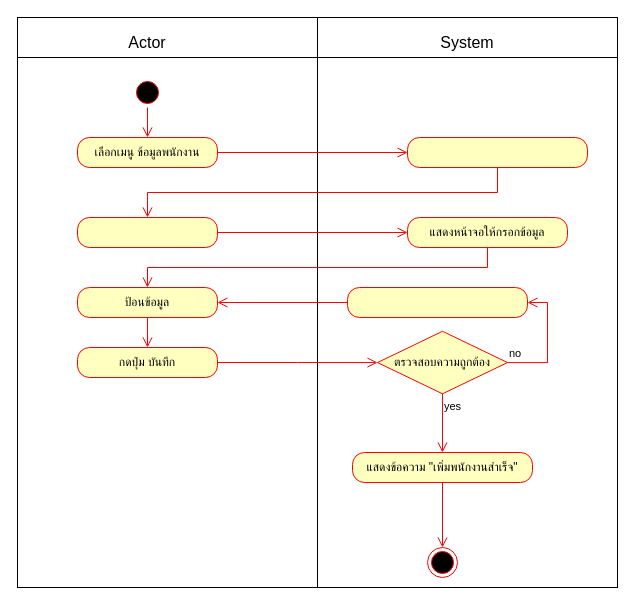
Some shapes in this 636 by 606 pixel diagram are drawn without their labels. The box of each missing label's shape, as (x1, y1, x2, y2) in pixels:
เลือก เพิ่ม พนักงาน: (76, 216, 218, 248)
แสดงข้อความ "กรุณากรอกข้อมูลให้ครบถ้วน": (346, 286, 528, 318)
แสดงหน้าจอ ข้อมูลพนักงานทั้งหมด: (406, 136, 588, 168)
